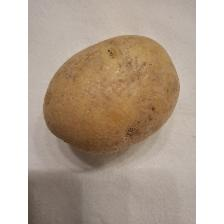Kartoffel: (40, 34, 182, 158)
